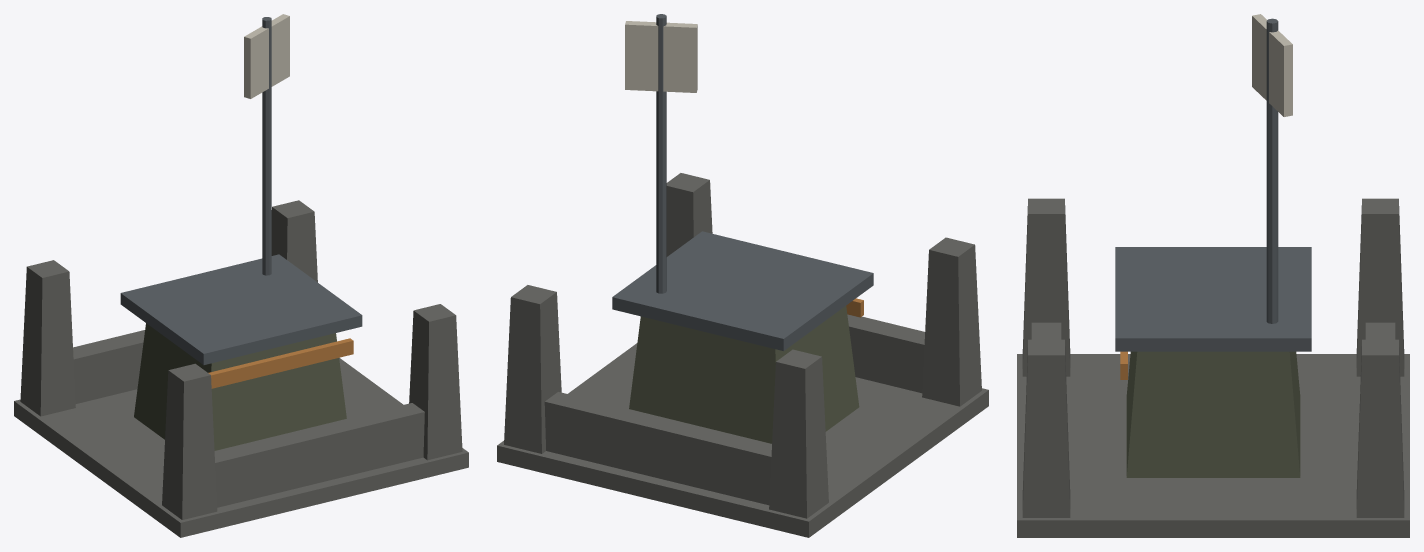
Rendered from wm_outpost.glb.
3 renders of one model, left to right at view 1: azimuth 30°, elevation 25°; view 2: azimuth 150°, elevation 25°; view 3: azimuth 270°, elevation 25°, orthographic. The views are drawn at different scales.
Parts seen in each view (by area): view 1: pad, core_top, core, wall_n, post2, post0, post1, wall_s, dish, post3, stripe, mast; view 2: pad, core_top, core, wall_s, post0, post2, post3, dish, wall_n, post1, mast; view 3: pad, core, core_top, post1, post3, post0, post2, mast, dish, wall_n, wall_s.
Part boxes in pixels (<box>): pad: <box>14,358,468,537</box>; core_top: <box>120,254,362,364</box>; core: <box>134,323,346,450</box>; wall_n: <box>214,403,424,507</box>; post2: <box>20,260,75,416</box>; post0: <box>162,363,217,519</box>; post1: <box>409,304,462,460</box>; wall_s: <box>73,330,144,403</box>; dish: <box>244,14,289,98</box>; post3: <box>271,200,317,282</box>; stripe: <box>208,338,353,388</box>; mast: <box>262,17,271,275</box>; pad: <box>497,343,988,537</box>; core_top: <box>612,231,873,351</box>; core: <box>629,306,859,443</box>; wall_s: <box>544,392,771,505</box>; post0: <box>922,237,981,406</box>; post2: <box>769,349,828,518</box>; post3: <box>504,285,561,453</box>; dish: <box>625,21,697,92</box>; wall_n: <box>847,314,924,393</box>; post1: <box>666,173,712,256</box>; mast: <box>656,14,666,293</box>; pad: <box>1017,354,1409,537</box>; core: <box>1126,351,1300,477</box>; core_top: <box>1115,247,1311,351</box>; post1: <box>1022,339,1070,517</box>; post3: <box>1356,339,1404,517</box>; post0: <box>1022,198,1070,376</box>; post2: <box>1356,198,1404,376</box>; mast: <box>1266,18,1278,323</box>; dish: <box>1252,14,1292,116</box>; wall_n: <box>1031,322,1061,339</box>; wall_s: <box>1365,322,1395,339</box>.
Size of the model in its own units: 8 by 10.4 by 8.
